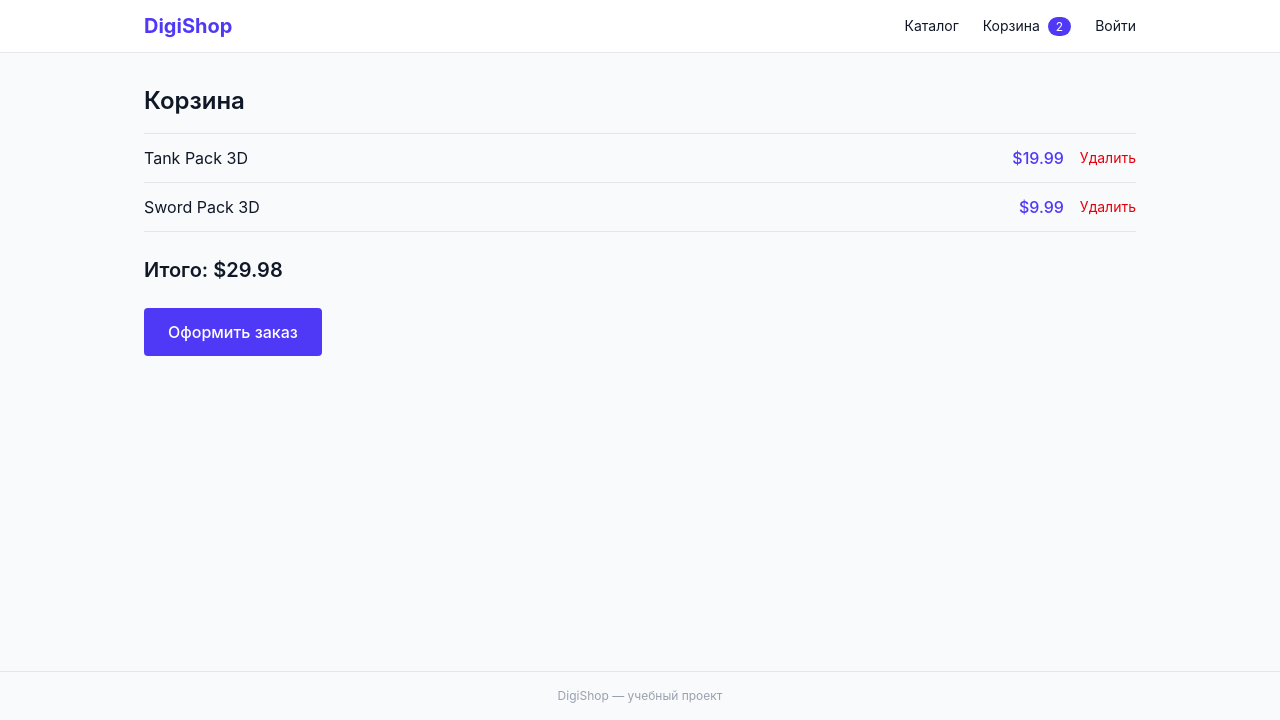
Test case: кнопка удаления убирает позицию из корзины
This screenshot has width=1280, height=720.
Step 1. Click the button with aria-label "Удалить Tank Pack 3D" → (1108, 158), box 1080,148 -> 1136,168
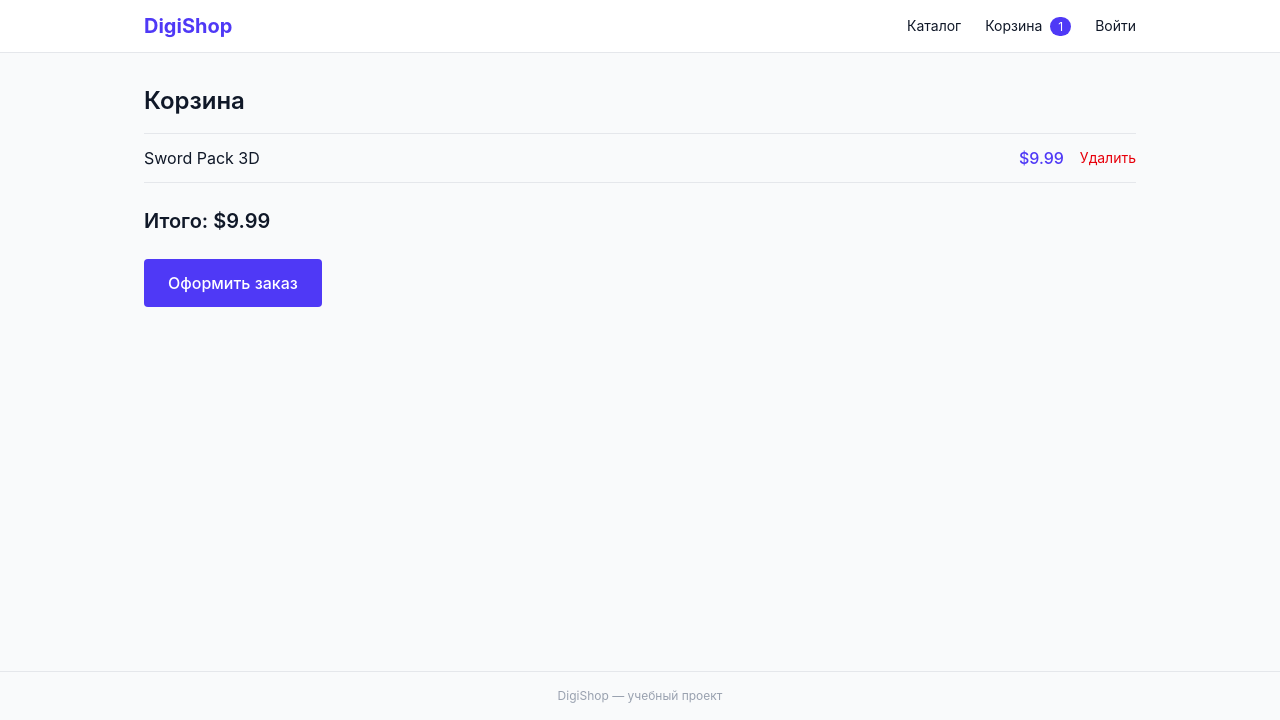
Expected: the text "Sword Pack 3D" is shown, 144,146 -> 260,170
Expected: the text "Tank Pack 3D" is gone
